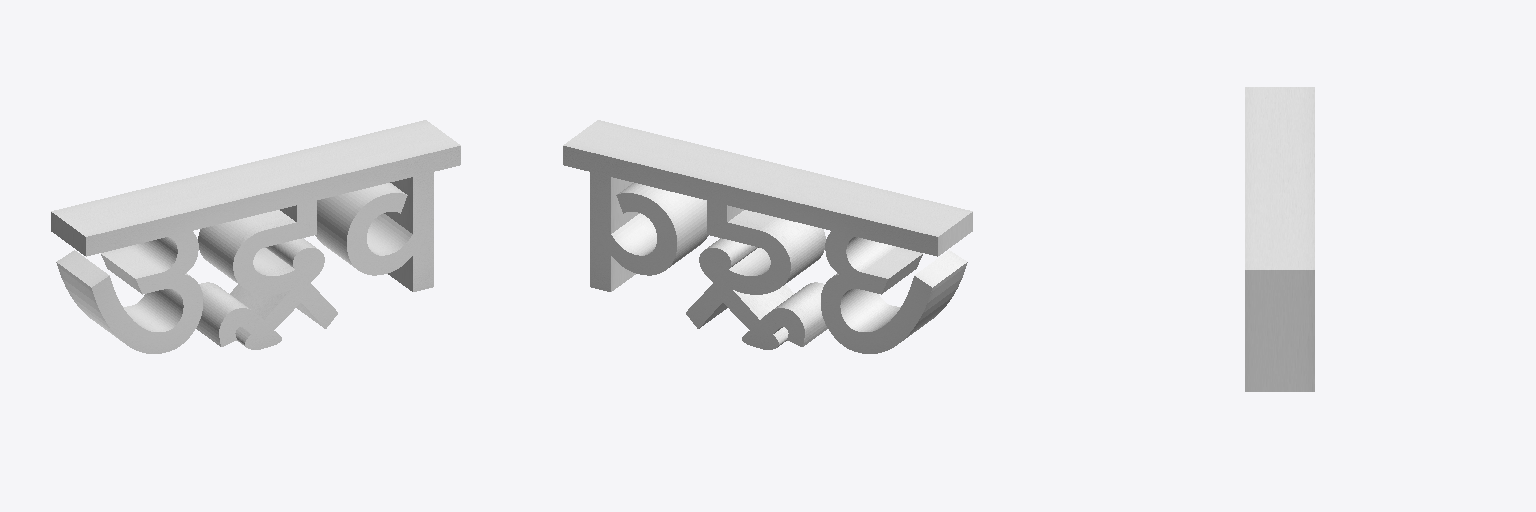
The picture shows the model from 3 angles: view 1: azimuth 30°, elevation 25°; view 2: azimuth 150°, elevation 25°; view 3: azimuth 270°, elevation 25°; orthographic projection.
Parts seen in each view (by area): view 1: उद्भव__उद्भव_.001; view 2: उद्भव__उद्भव_.001; view 3: उद्भव__उद्भव_.001.
Boxes of the visible parts, x1,y1,x2,y2 form: उद्भव__उद्भव_.001: [51, 120, 460, 353]; उद्भव__उद्भव_.001: [563, 120, 972, 353]; उद्भव__उद्भव_.001: [1245, 87, 1314, 391].
Bounding box in the file's own units: 59.22 × 23.4 × 9.59.
1 materials, 1 textured.